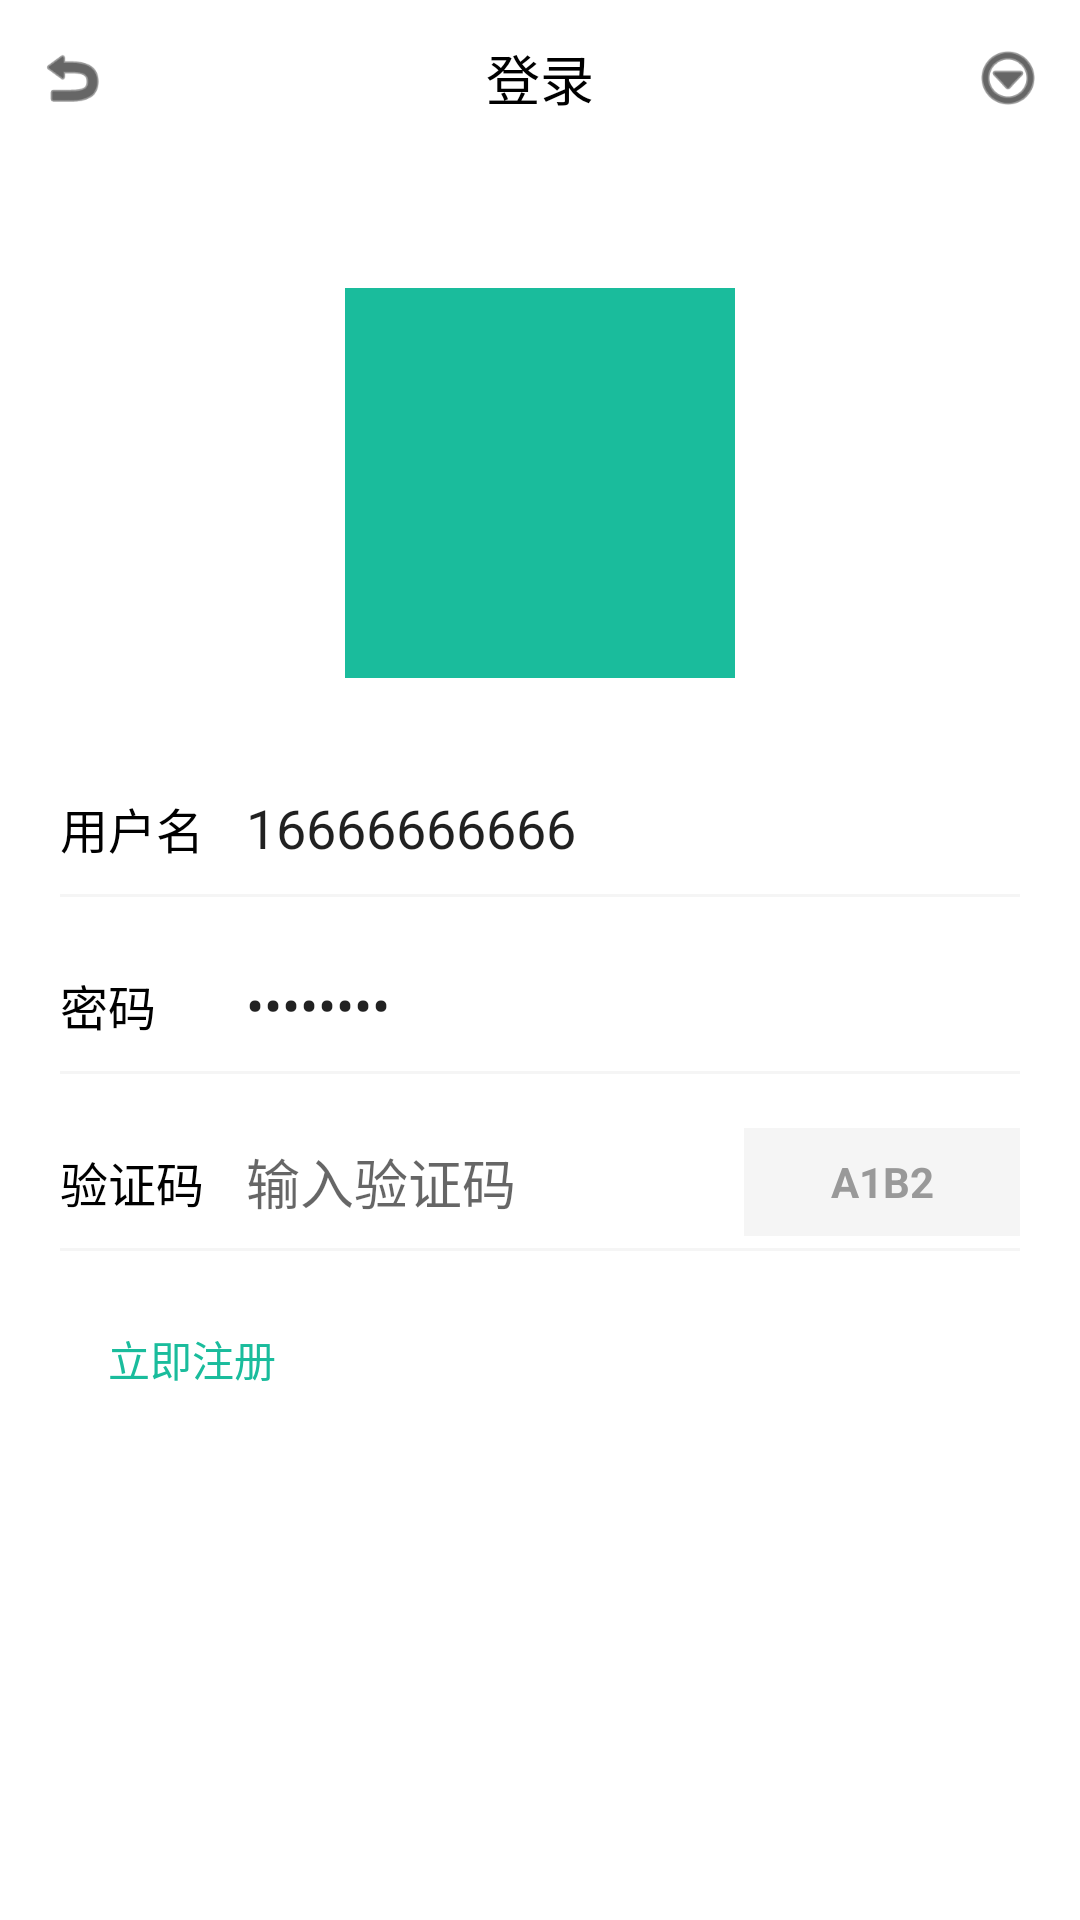

Point at icon controls on the screen. Image size 1080*1920, points as [x,y].
more: [1008,78]
revert: [73,78]
